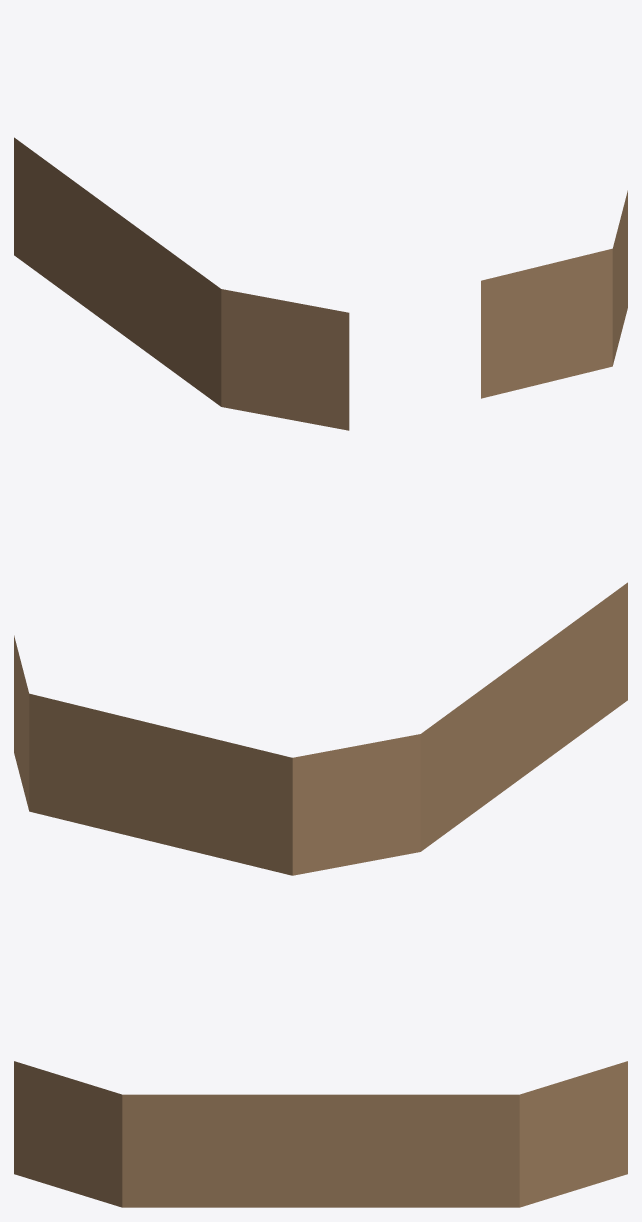
The model's file is 1307-Buildings-shell-pieces-facade-bay-wall-round-an-opening-reveals-sill-head-emitBa.glb.
3 renders of one model, top to bottom at view 1: azimuth 30°, elevation 25°; view 2: azimuth 150°, elevation 25°; view 3: azimuth 270°, elevation 25°, orthographic. The views are drawn at different scales.
Visible parts, largest first — view 1: emitBay; view 2: emitBay; view 3: emitBay.
Part boxes in pixels (<box>): emitBay: <box>14,137,627,430</box>; emitBay: <box>14,582,627,875</box>; emitBay: <box>14,1061,627,1207</box>.
Bounding box in the file's own units: 11 × 3.05 × 15.
